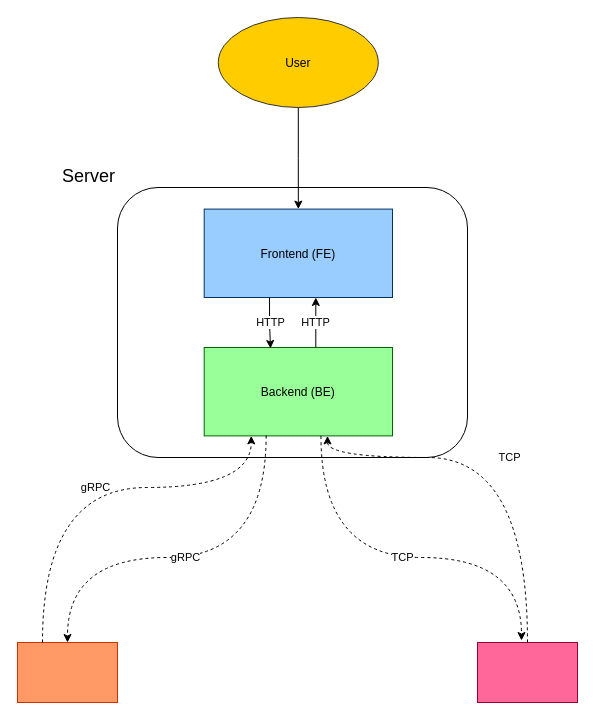
Image size: 595x720. Some labels were removed from this diagram. The centre of each missing label's shape, as x and y in pixels:
"Client" belongs at (x=67, y=672).
"Daemon" belongs at (x=527, y=672).
